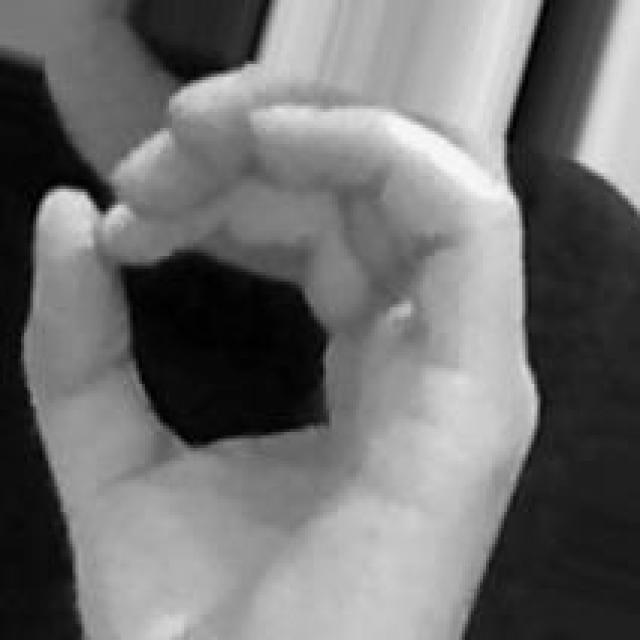O: (18, 57, 546, 640)
